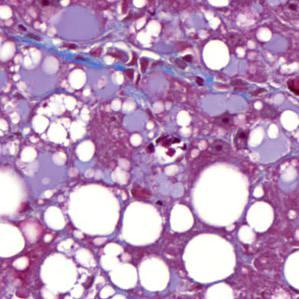steatosis: (180, 232, 235, 286), (120, 200, 162, 243), (199, 41, 233, 69)
